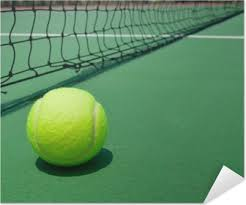tennis_ball: (27, 86, 107, 168)
